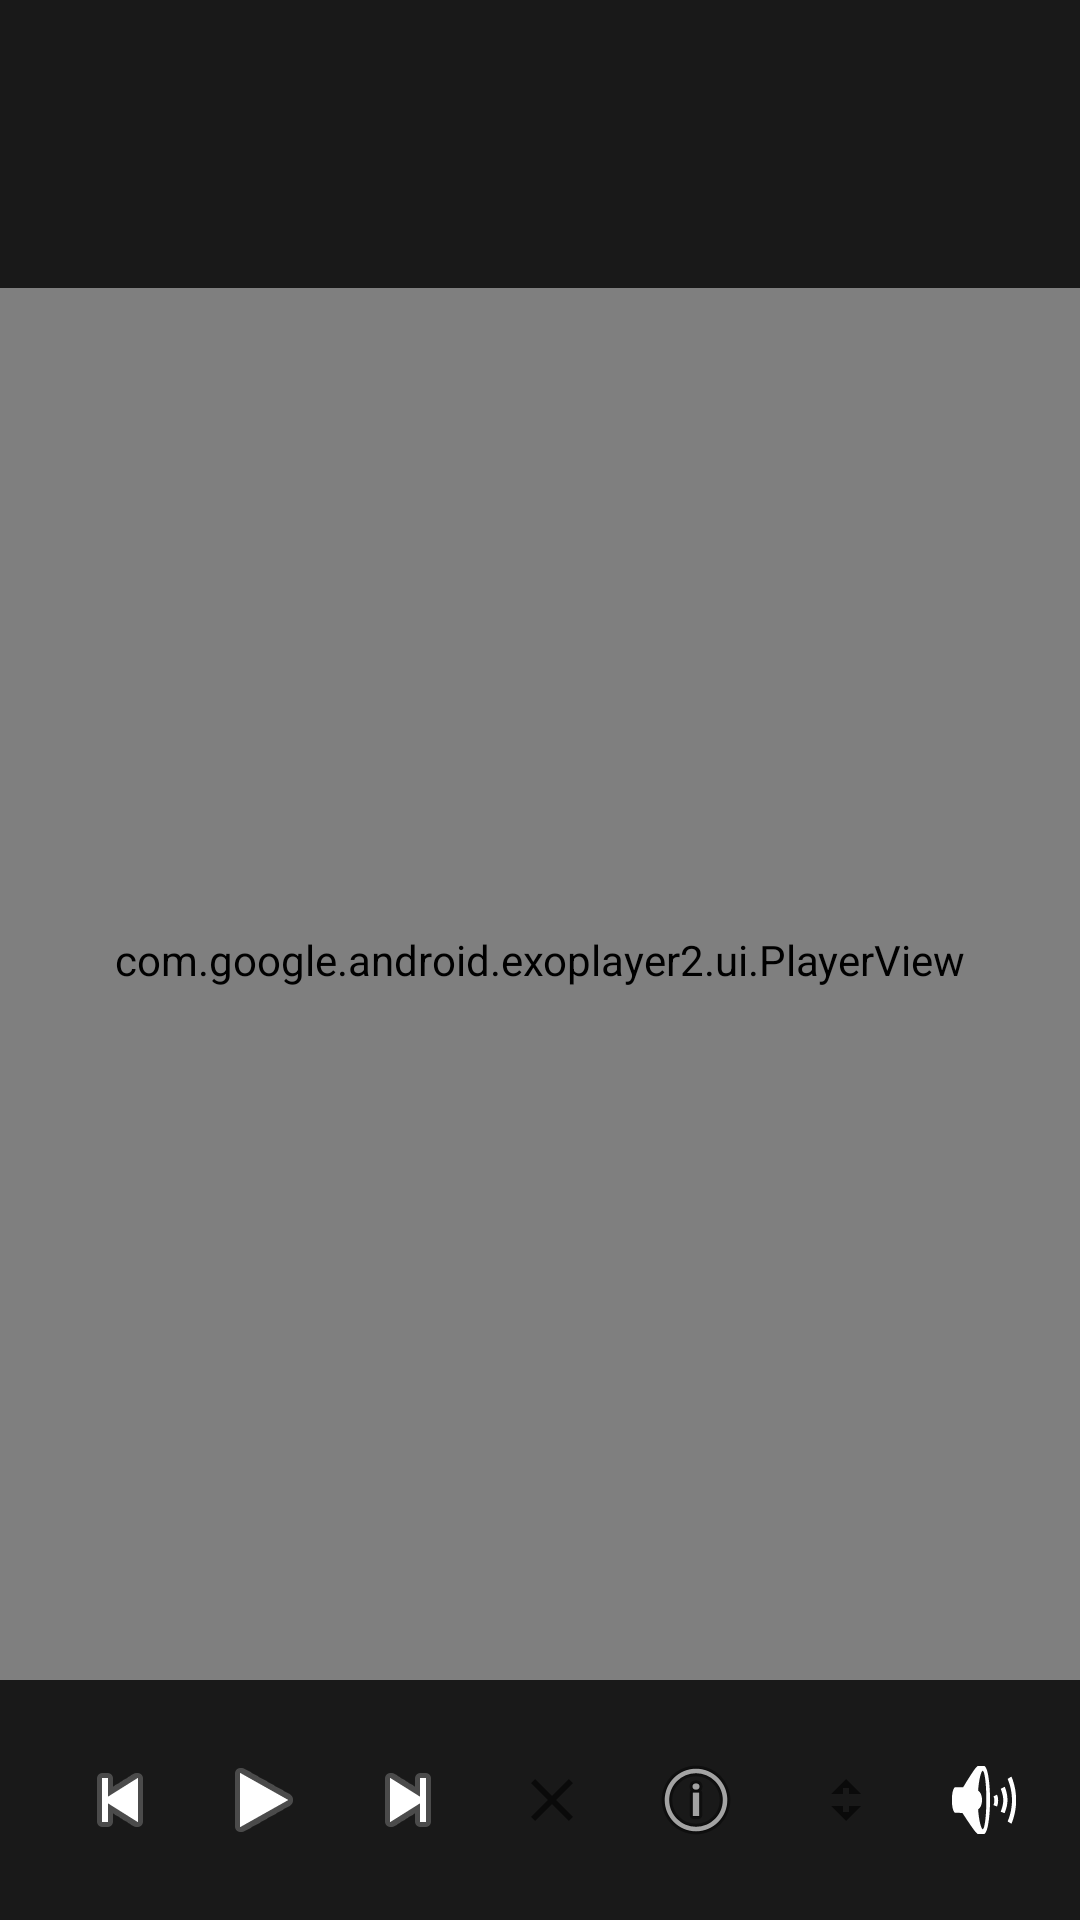

Icon bounding boxes for this 1080px×1920px phone screenshot, format [x1, y1, x2, y2]:
Audio: [952, 1766, 1016, 1834]
Channel info: [664, 1769, 728, 1832]
Next channel: [385, 1773, 431, 1827]
Play/Pause: [235, 1768, 293, 1832]
Previous channel: [97, 1773, 143, 1827]
